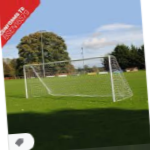goals: (22, 52, 135, 105)
